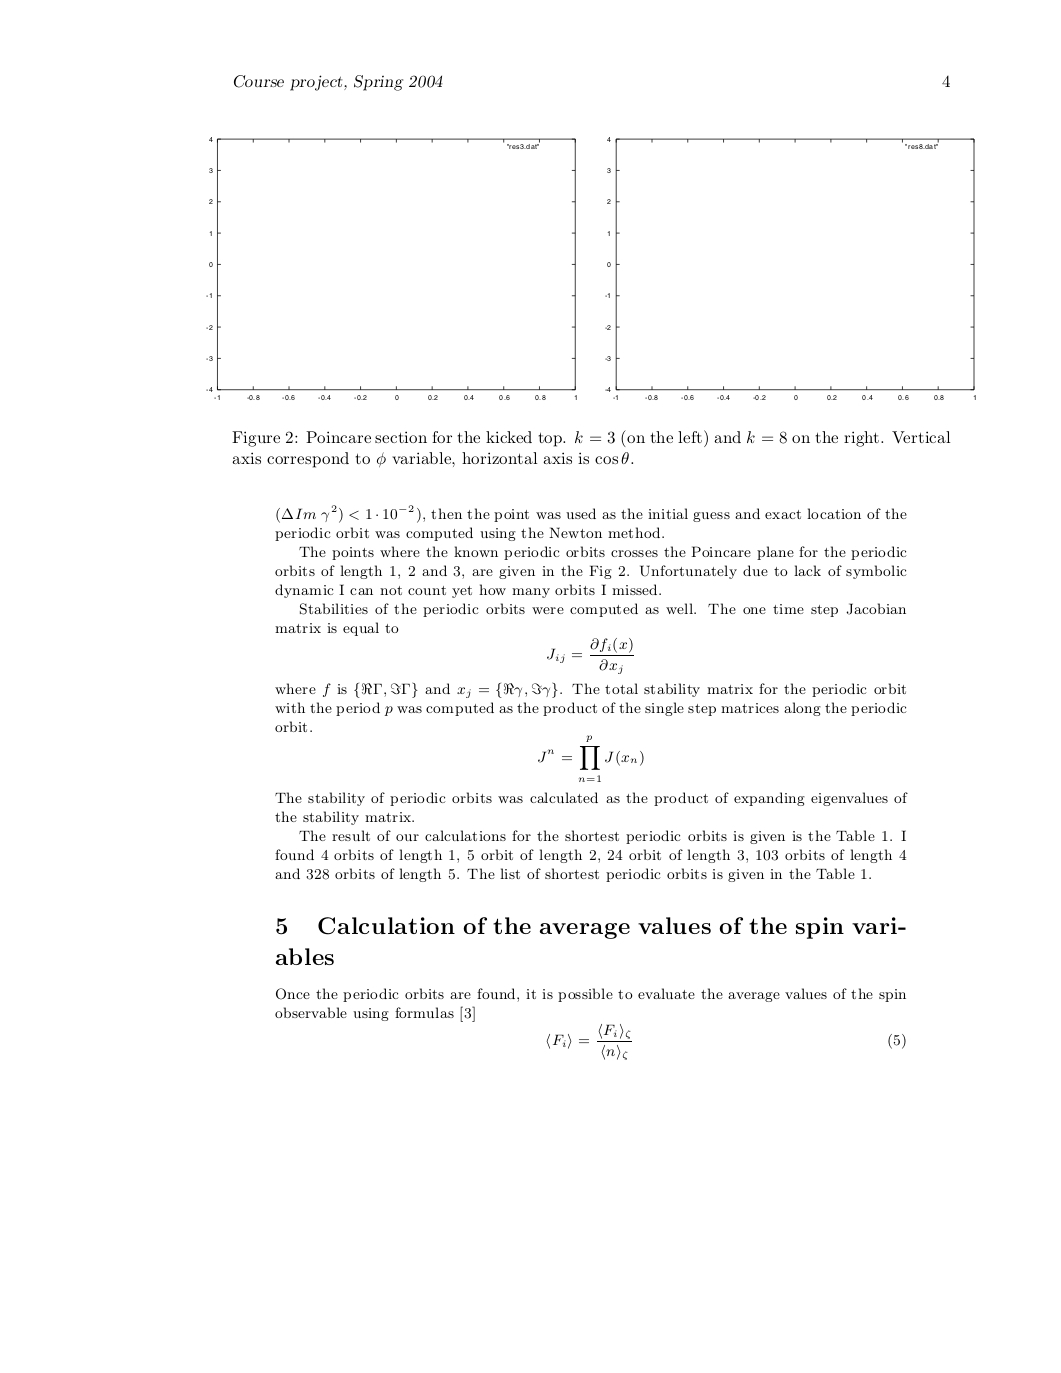figure: (206, 137, 576, 399), (605, 137, 975, 399)
formula: (546, 1023, 905, 1059), (538, 736, 643, 781), (547, 637, 633, 673)
